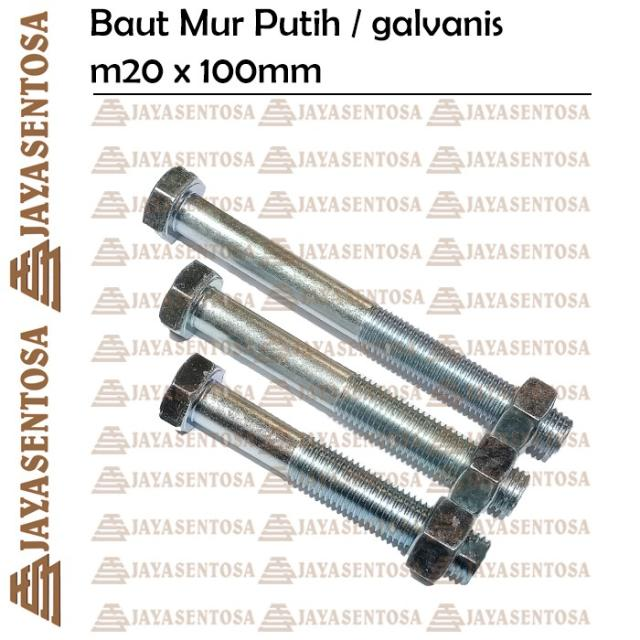Logam: (132, 145, 593, 592)
